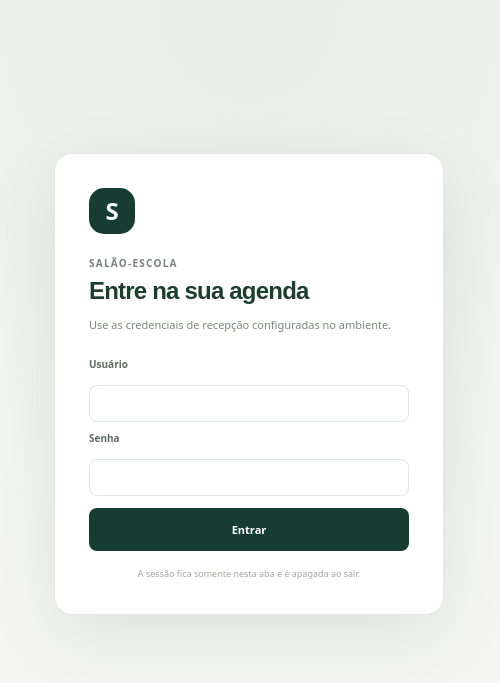
LoginCard › mostra erro quando o servidor rejeita o login
Type "recepcao" into the field labelled "Usuário" at (249, 403), box [89,384,409,422]
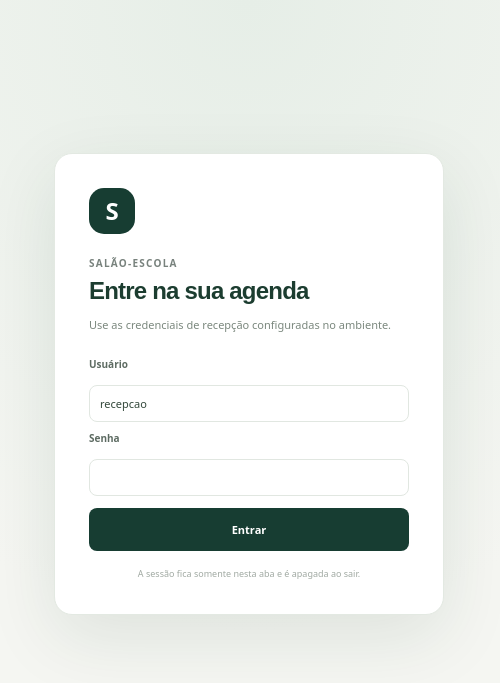
Type "errada" into the password field labelled "Senha" at (249, 477), box [89,458,409,496]
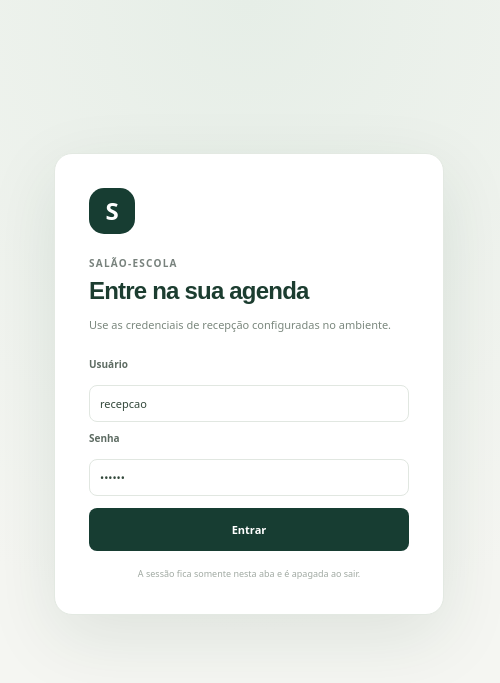
Click the button "Entrar" at (249, 529), box [89,508,409,550]
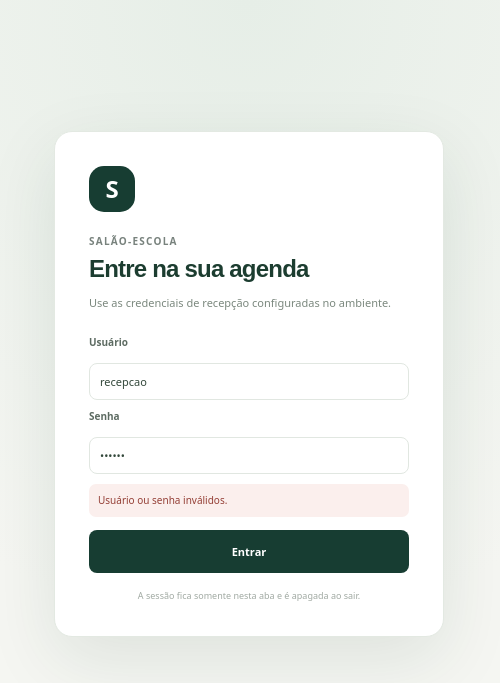
Expected: the message reads "Usuário ou senha inválidos.", [98,492,227,506]
